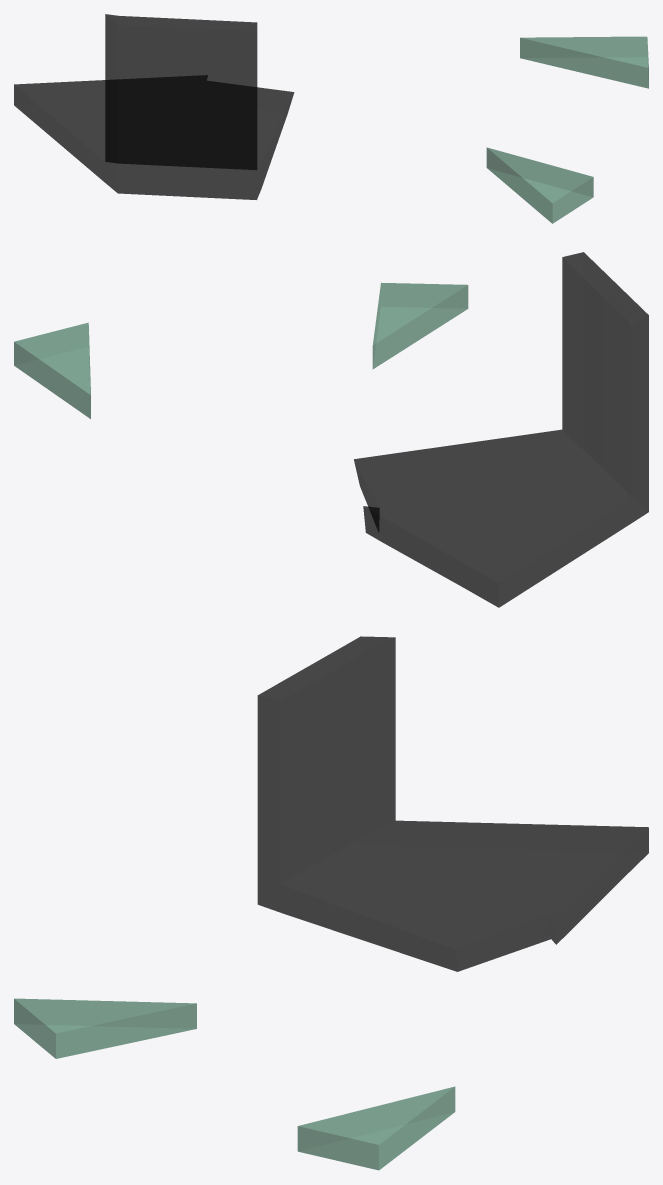
The model's file is PetriFragments002.FBX.
The picture shows the model from 3 angles, top to bottom: view 1: azimuth 30°, elevation 25°; view 2: azimuth 150°, elevation 25°; view 3: azimuth 270°, elevation 25°; orthographic projection. The views are drawn at different scales.
Parts seen in each view (by area): view 1: Object002; view 2: Object002; view 3: Object002.
Part boxes in pixels (<box>): Object002: <box>14,14,648,223</box>; Object002: <box>14,252,648,607</box>; Object002: <box>14,636,648,1170</box>.
Size of the model in its own units: 47.64 by 14.31 by 39.36.
